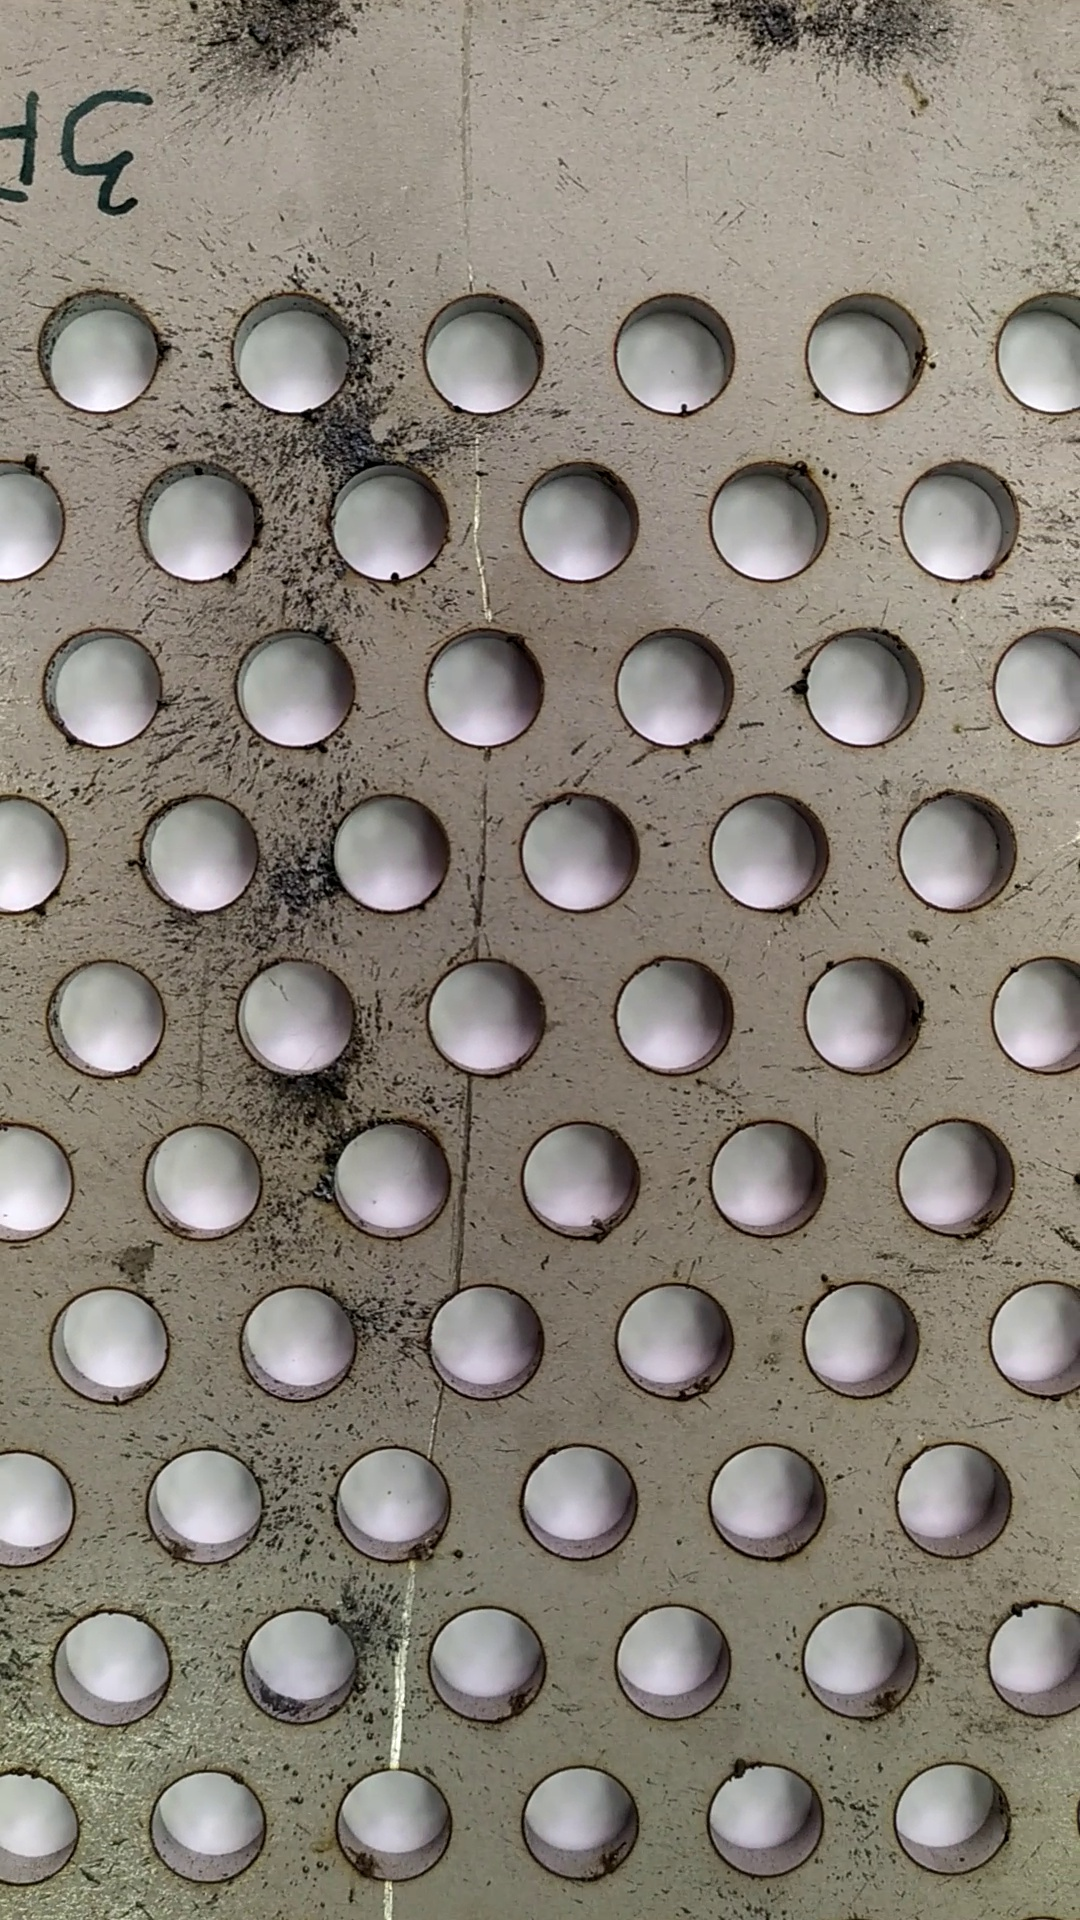Hole: (596, 940, 753, 1089), (597, 276, 752, 426), (41, 1270, 185, 1418), (692, 1429, 837, 1573), (793, 1269, 938, 1411), (220, 277, 367, 417), (794, 284, 938, 425), (318, 781, 463, 920), (885, 1113, 1036, 1246), (607, 618, 746, 762), (889, 452, 1034, 591), (884, 1436, 1033, 1571), (123, 452, 273, 585), (30, 618, 173, 758), (26, 276, 165, 419), (696, 452, 840, 591), (316, 450, 462, 587), (696, 785, 841, 922), (506, 452, 655, 585), (600, 1271, 749, 1404), (793, 949, 932, 1091), (41, 1600, 187, 1734), (694, 1750, 841, 1883), (123, 785, 272, 916), (510, 783, 657, 915), (224, 617, 363, 756), (885, 1754, 1022, 1894), (414, 284, 555, 419), (318, 1437, 462, 1571), (506, 1436, 651, 1568), (889, 783, 1029, 919), (508, 1113, 649, 1247), (225, 1276, 369, 1408), (318, 1112, 465, 1240), (41, 952, 177, 1091), (411, 620, 551, 754), (422, 1593, 556, 1731), (700, 1109, 832, 1250), (414, 1276, 555, 1408), (127, 1116, 269, 1246), (127, 1436, 266, 1568), (785, 1596, 926, 1726), (793, 622, 934, 752), (604, 1600, 742, 1730), (415, 952, 553, 1083), (232, 1596, 369, 1724), (510, 1758, 649, 1884), (138, 1760, 280, 1884), (330, 1758, 463, 1883), (232, 952, 359, 1083)
